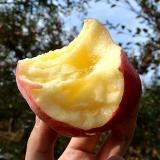apple: (15, 17, 141, 137)
